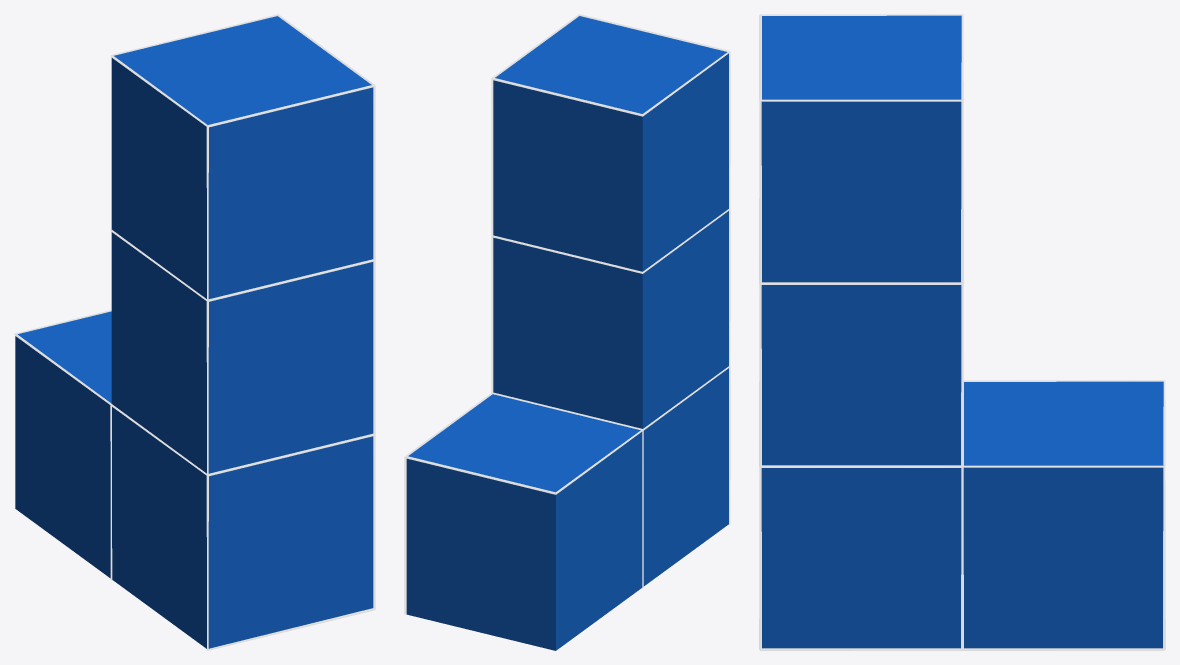
The model's file is gDetailBlue.glb.
3 renders of one model, left to right at view 1: azimuth 30°, elevation 25°; view 2: azimuth 150°, elevation 25°; view 3: azimuth 270°, elevation 25°, orthographic. The views are drawn at different scales.
Visible parts, largest first — view 1: Lines.002, Lines, Lines.001, Lines.003; view 2: Lines.003, Lines.002, Lines.001, Lines; view 3: Lines.002, Lines.003, Lines.001, Lines.
Boxes of the visible parts, left/top/right/bottom form: Lines.002: left=110, top=14, right=375, bottom=301; Lines: left=110, top=404, right=375, bottom=650; Lines.001: left=110, top=229, right=375, bottom=476; Lines.003: left=14, top=310, right=112, bottom=580; Lines.003: left=404, top=392, right=643, bottom=650; Lines.002: left=491, top=14, right=730, bottom=271; Lines.001: left=491, top=209, right=730, bottom=428; Lines: left=492, top=366, right=730, bottom=586; Lines.002: left=759, top=14, right=963, bottom=284; Lines.003: left=961, top=380, right=1165, bottom=650; Lines.001: left=759, top=198, right=963, bottom=467; Lines: left=759, top=381, right=963, bottom=650.
Bounding box in the file's own units: 2.03 × 6.03 × 4.03.
